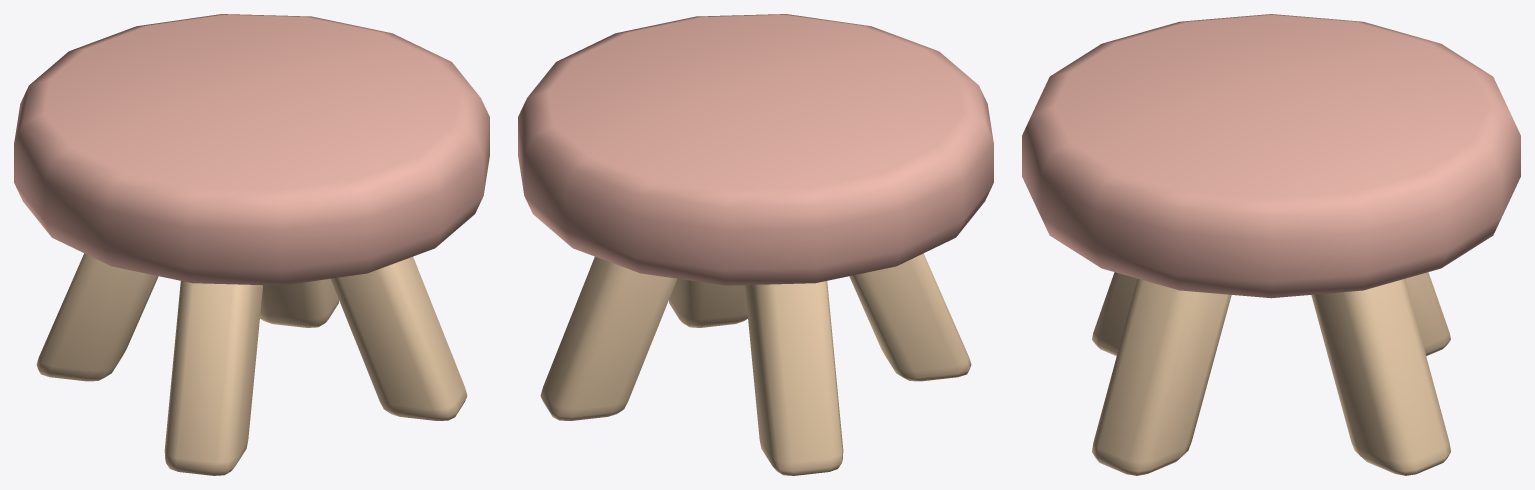
File: Chair_01.fbx
3 views of the same model, side by side, from view 1: azimuth 30°, elevation 25°; view 2: azimuth 150°, elevation 25°; view 3: azimuth 270°, elevation 25° (orthographic). The views are drawn at different scales.
Visible parts, largest first — view 1: 立方体.011; view 2: 立方体.011; view 3: 立方体.011.
Boxes of the visible parts, box(x1,y1,x2,y2) form: 立方体.011: box(14, 14, 489, 475); 立方体.011: box(518, 14, 993, 475); 立方体.011: box(1022, 14, 1520, 475).
Bounding box in the file's own units: 33.43 × 21.94 × 33.43.
